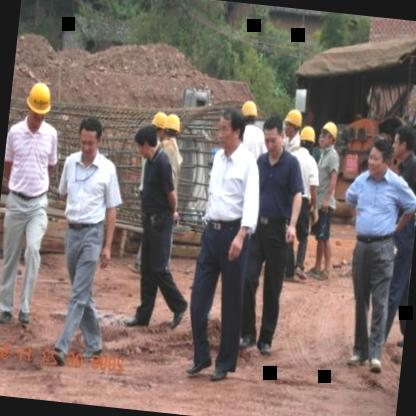head: (214, 104, 248, 154), (387, 116, 416, 172), (73, 112, 106, 160), (130, 121, 160, 167), (260, 114, 288, 160), (366, 136, 392, 178)
helmet: (20, 78, 54, 128), (279, 104, 307, 144), (239, 96, 262, 134), (296, 120, 319, 156), (320, 116, 340, 151), (161, 112, 182, 145), (148, 108, 168, 142)
